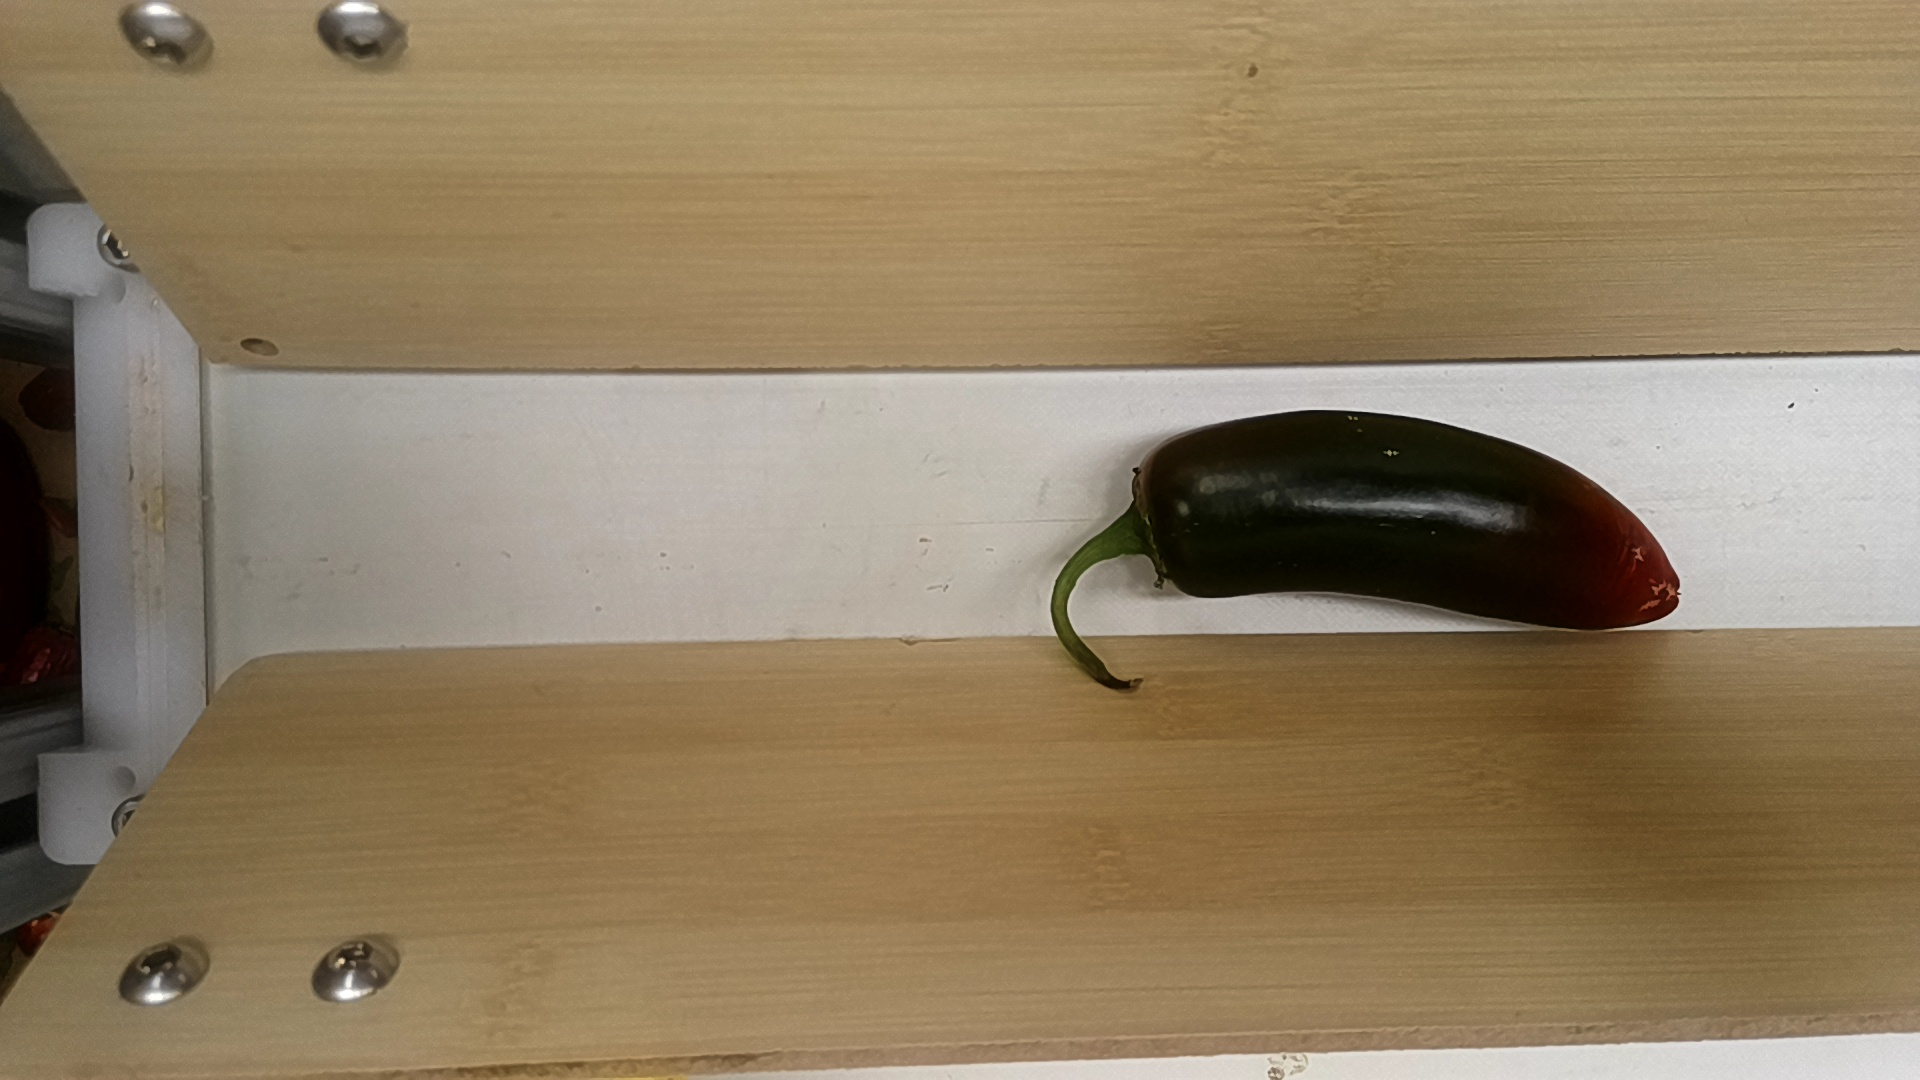Cut Point: (1106, 425, 1207, 608)
